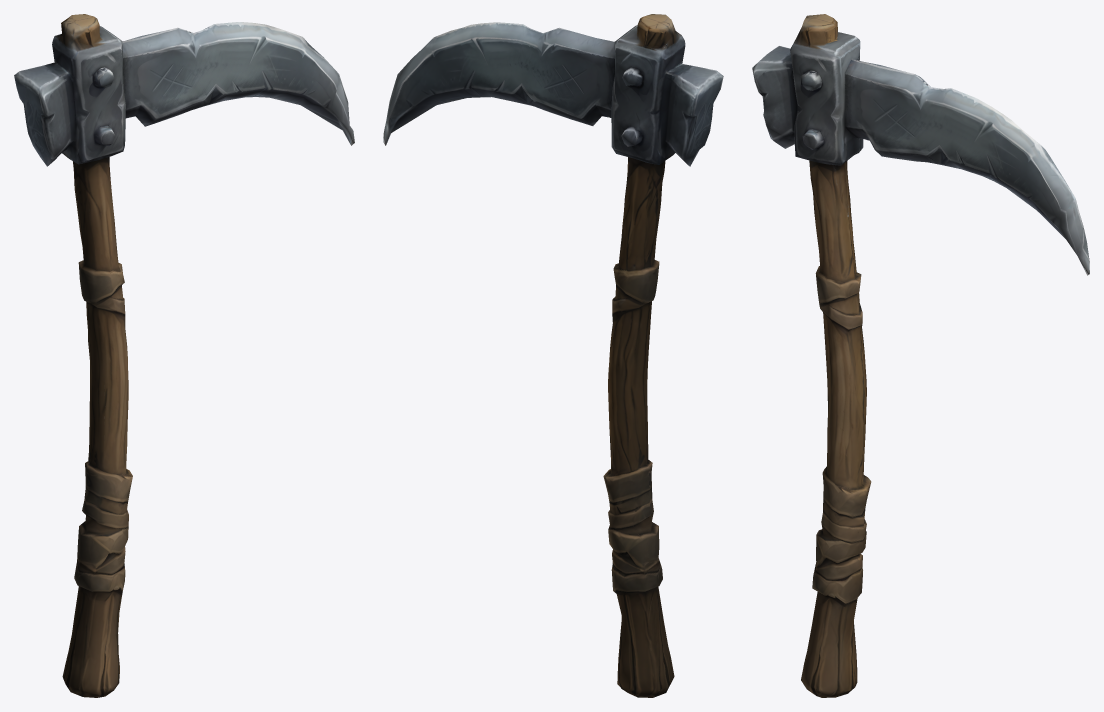
File: Prop_Weapon_WarScythe.fbx
3 views of the same model, side by side, from view 1: azimuth 30°, elevation 25°; view 2: azimuth 150°, elevation 25°; view 3: azimuth 330°, elevation 25° (orthographic).
Parts seen in each view (by area): view 1: texture_mapping; view 2: texture_mapping; view 3: texture_mapping.
Part boxes in pixels (x1,y1,x2,y2): texture_mapping: [14, 14, 354, 697]; texture_mapping: [383, 14, 723, 697]; texture_mapping: [752, 14, 1089, 697].
Size of the model in its own units: 0.5114 by 0.0999 by 1.
1 material, 1 textured.
